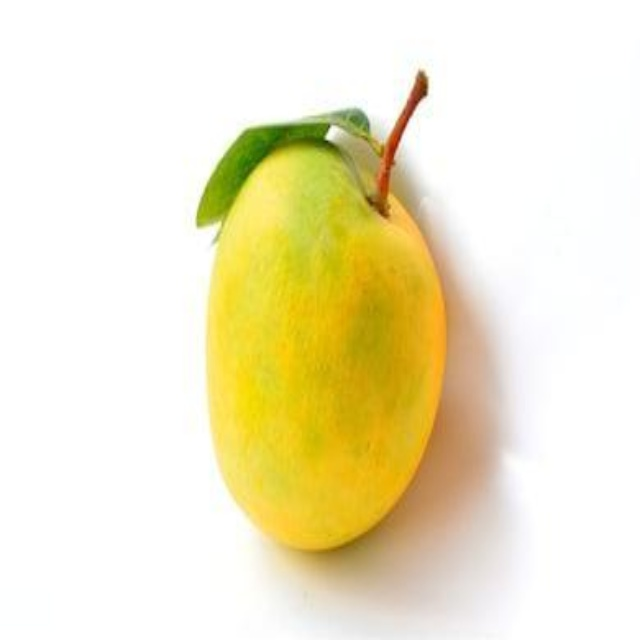mango: (180, 61, 448, 552)
